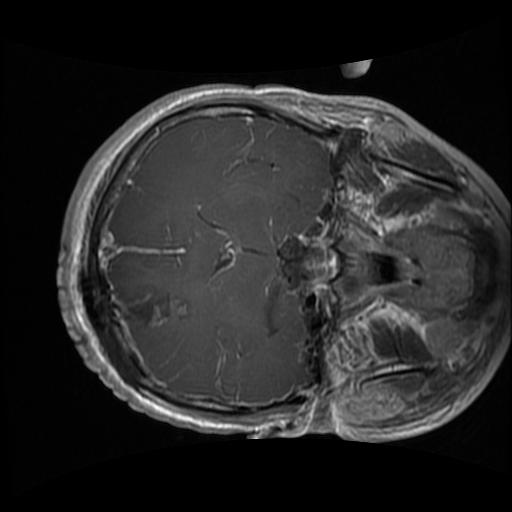glioma: (111, 282, 192, 331)
